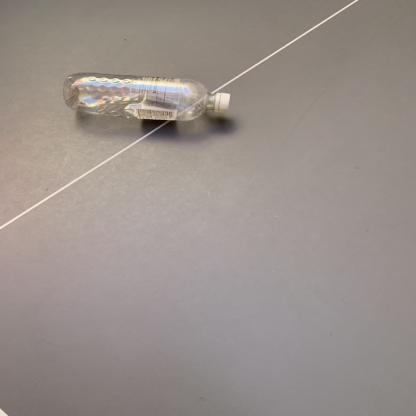trash: (62, 70, 232, 124)
